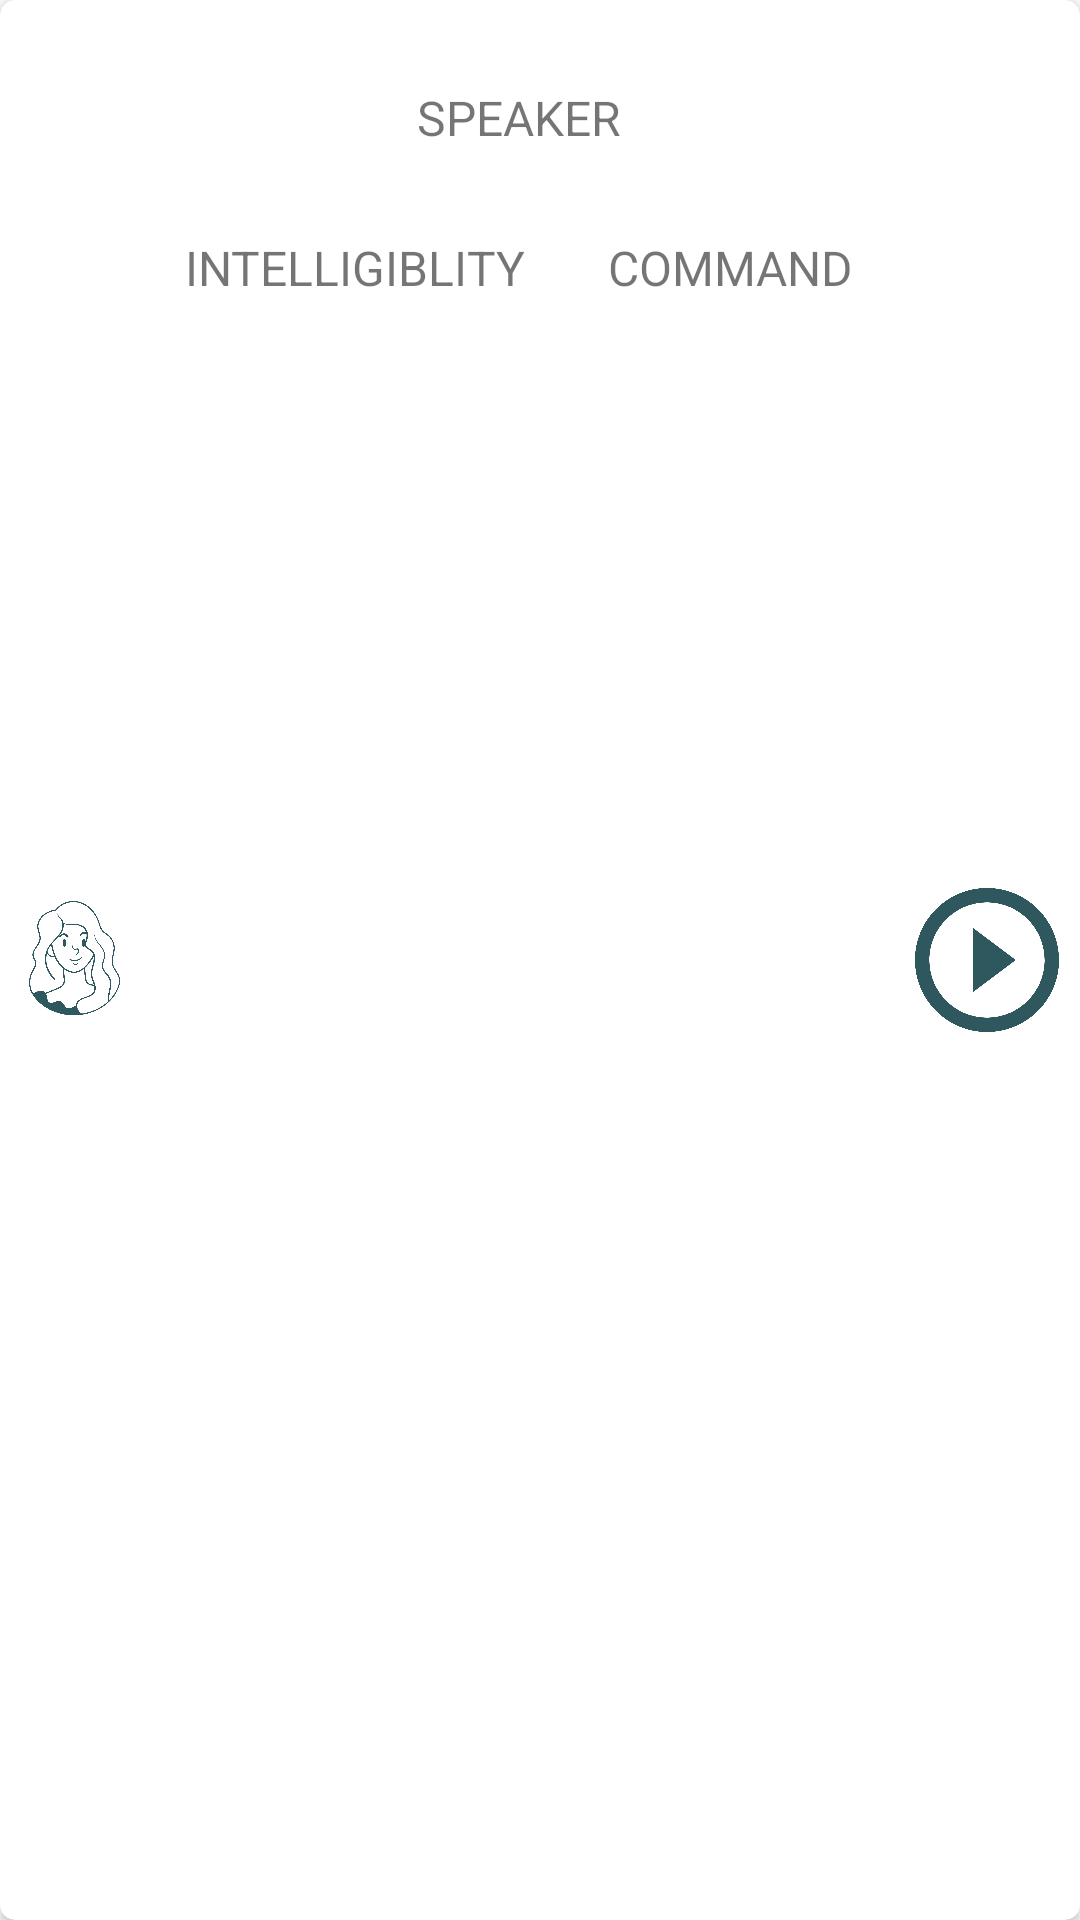

Point at icon controls on the screen. Image size 1080x1920, points as (x,y).
iconplay: (987,960)
